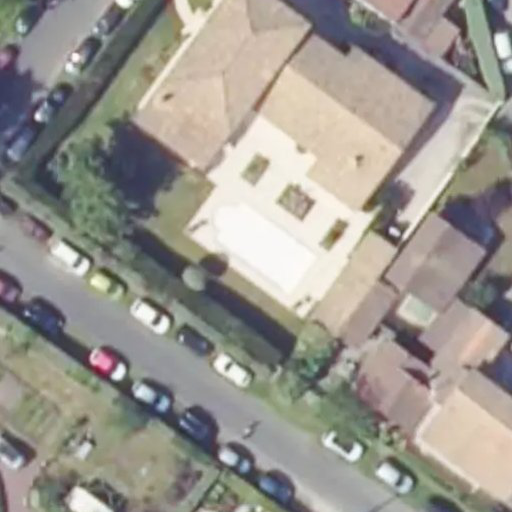pool: (193, 229, 318, 254)
